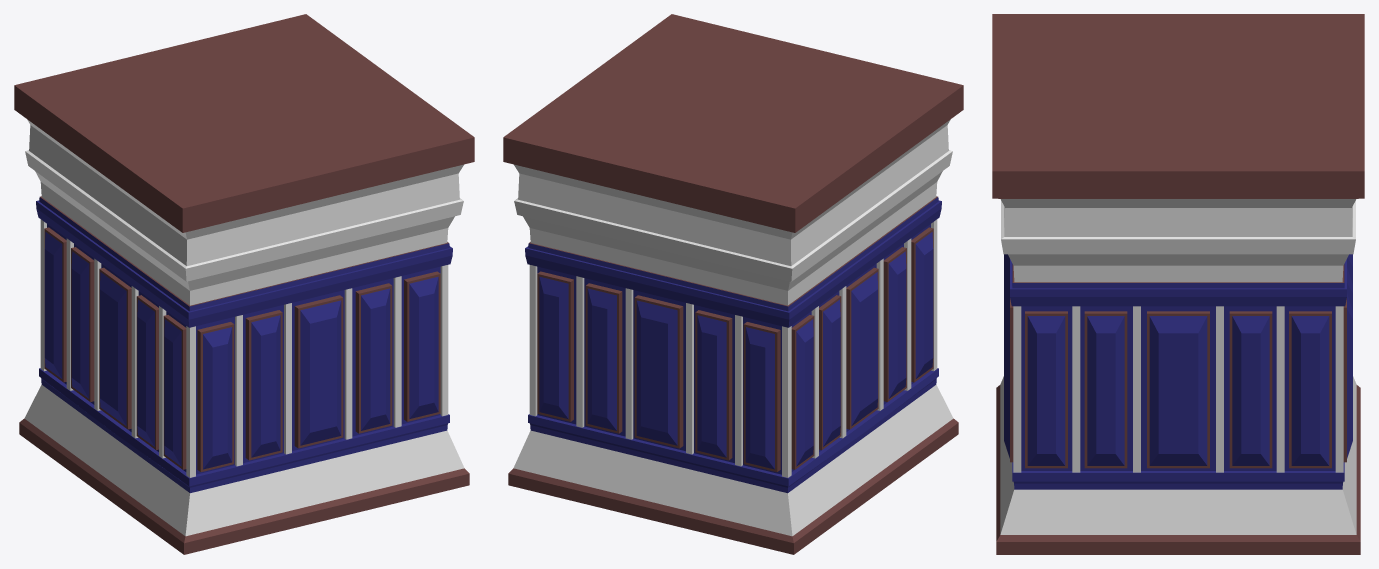
3 renders of one model, left to right at view 1: azimuth 30°, elevation 25°; view 2: azimuth 150°, elevation 25°; view 3: azimuth 270°, elevation 25°, orthographic. The views are drawn at different scales.
Visible parts, largest first — view 1: floor10D, floor10.3Decor.001; view 2: floor10D, floor10.3Decor.001; view 3: floor10D, floor10.3Decor.001.
Part boxes in pixels (<box>): floor10D: <box>14,14,474,554</box>; floor10.3Decor.001: <box>40,219,448,477</box>; floor10D: <box>503,14,963,554</box>; floor10.3Decor.001: <box>529,219,937,477</box>; floor10D: <box>992,14,1364,554</box>; floor10.3Decor.001: <box>1004,254,1352,472</box>.
Bounding box in the file's own units: 204 × 232 × 204.
